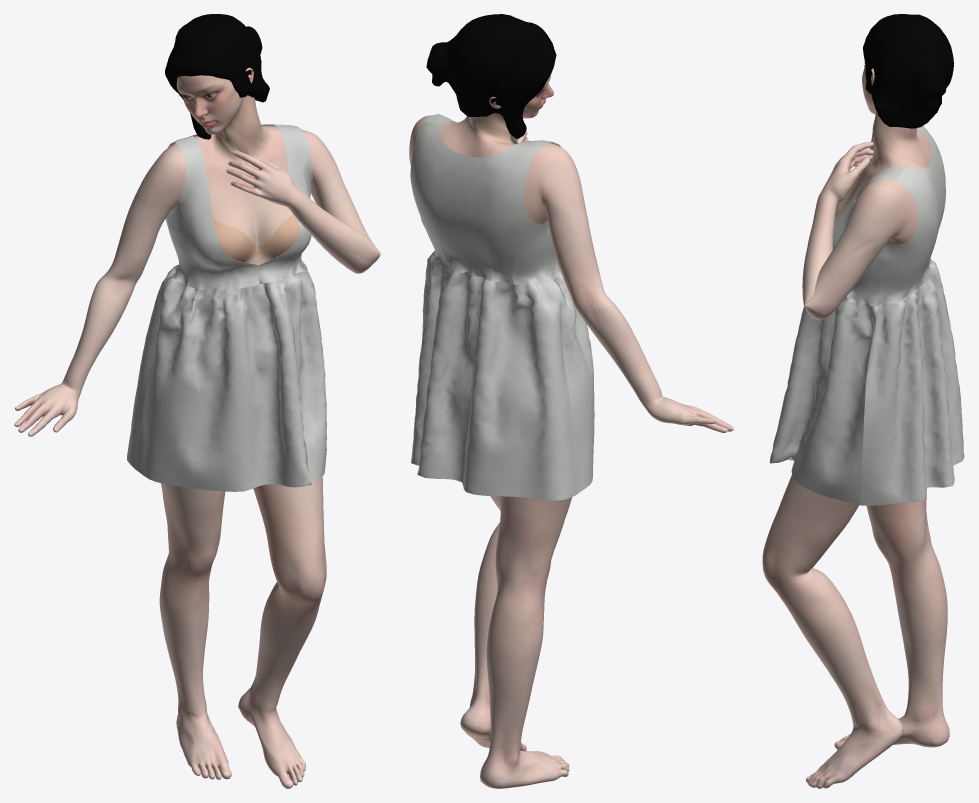
The model's file is Dynamic.obj.
The picture shows the model from 3 angles, left to right: view 1: azimuth 30°, elevation 25°; view 2: azimuth 150°, elevation 25°; view 3: azimuth 270°, elevation 25°; orthographic projection. The views are drawn at different scales.
Size of the model in its own units: 813 by 1767 by 430.
